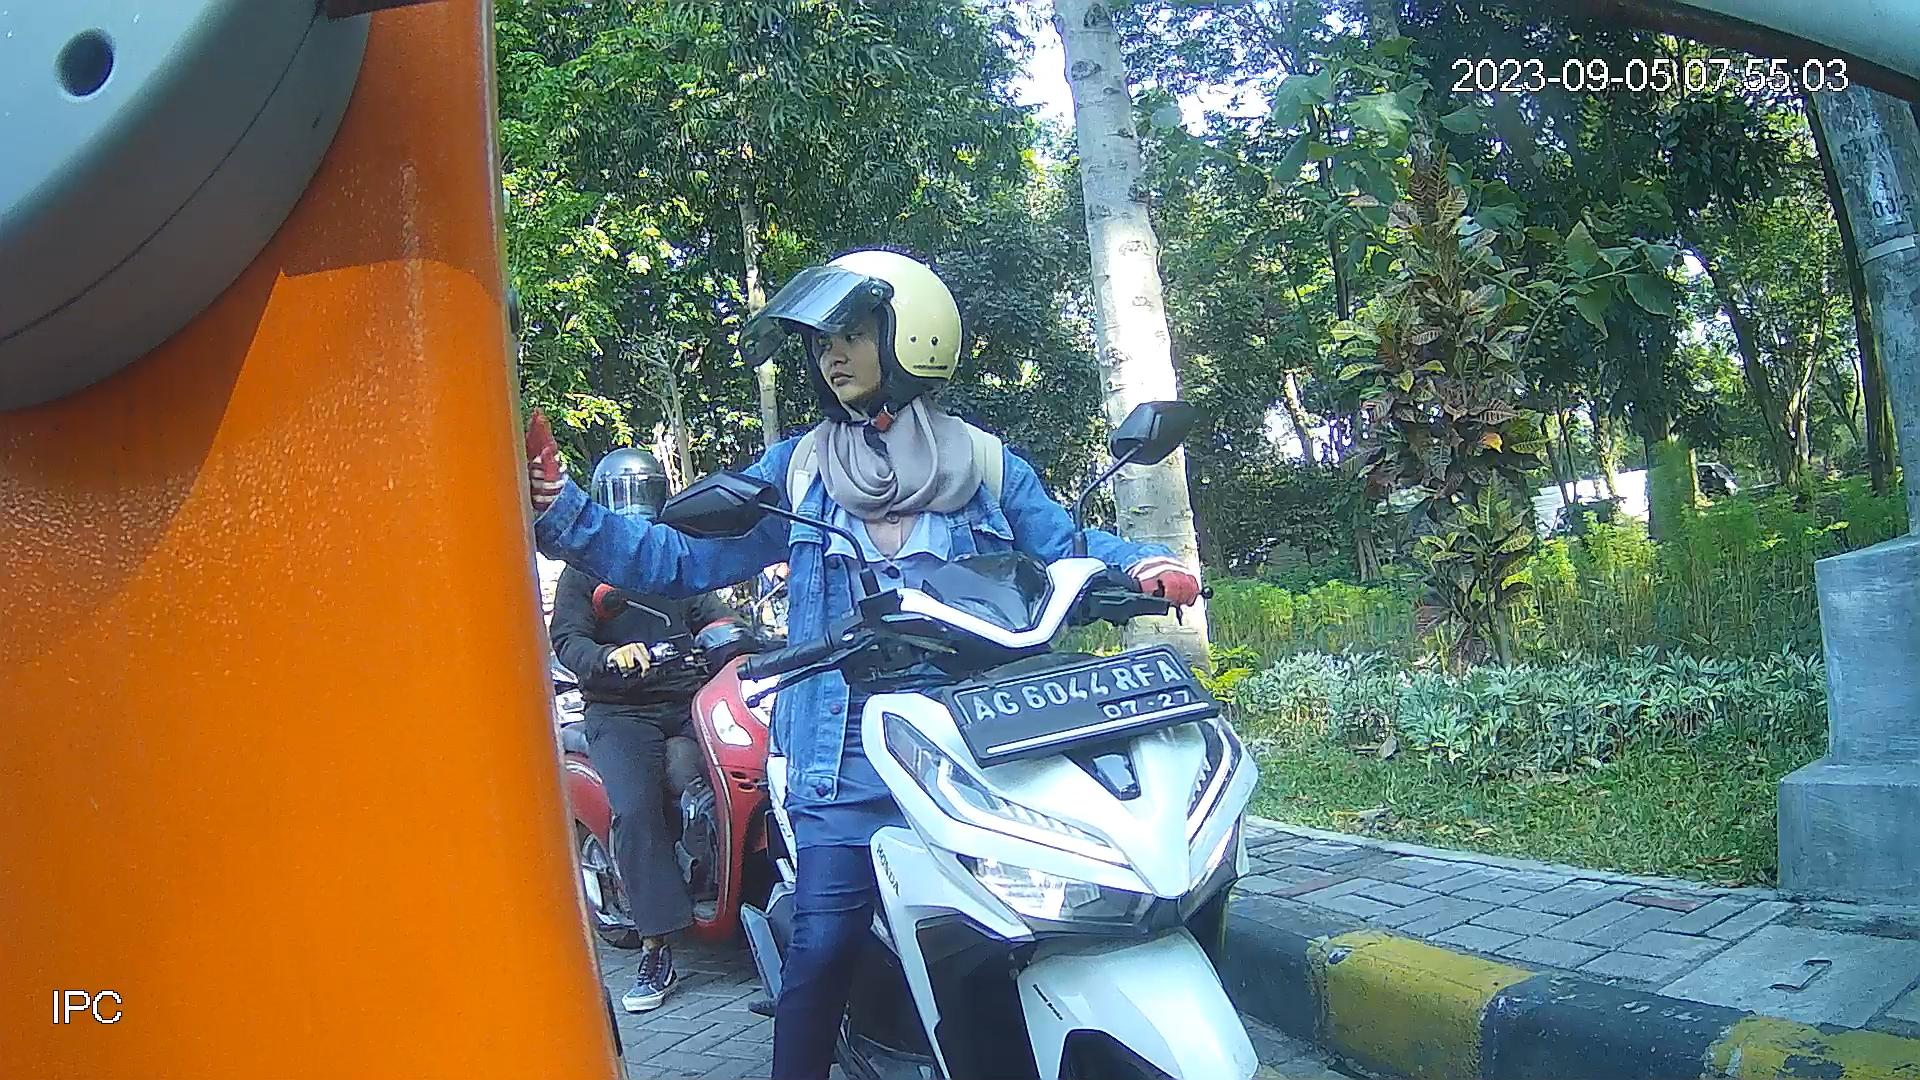plat: (945, 646, 1225, 770)
